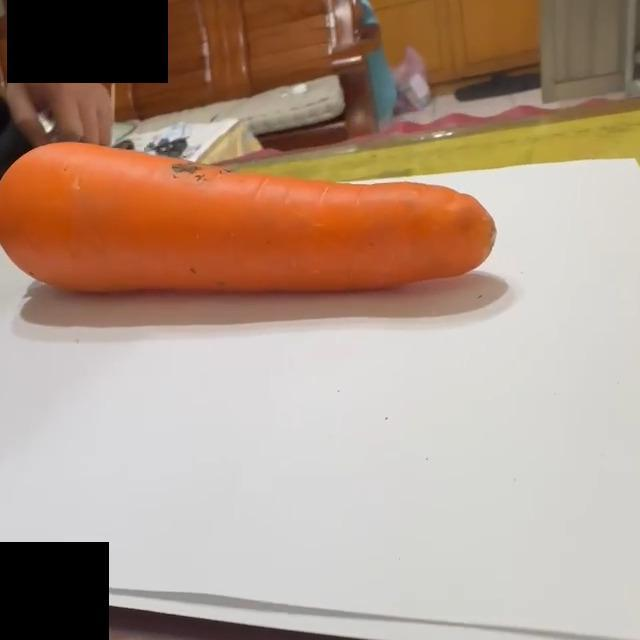carrot: (1, 140, 502, 297)
